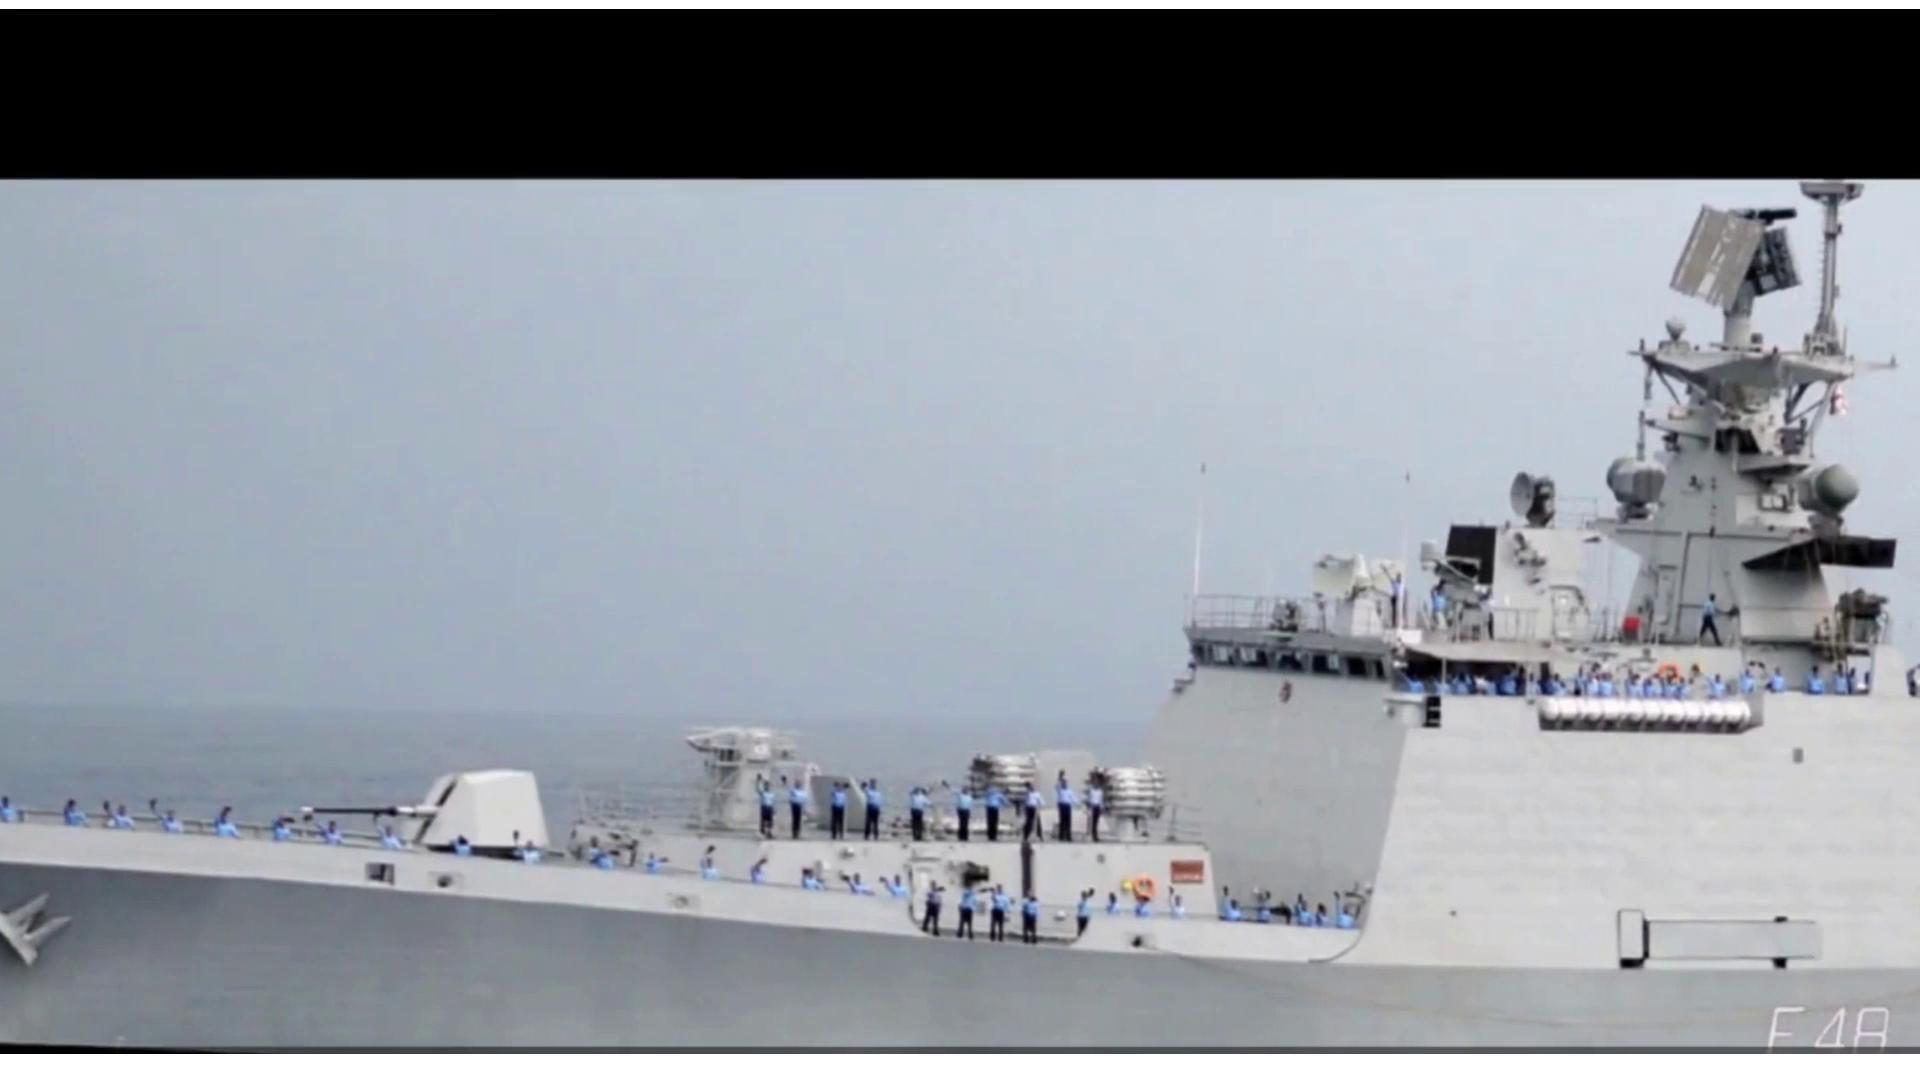OCR: (1749, 991, 1884, 1053)
